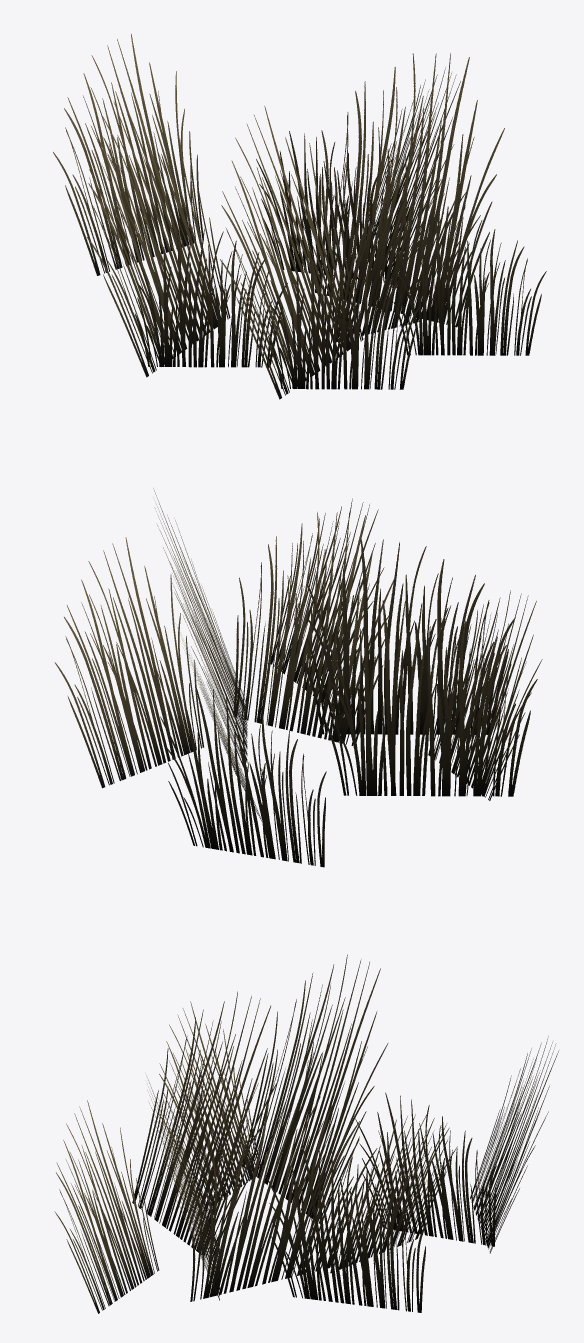
File: scenery-2.glb
3 views of the same model, one above another, from view 1: azimuth 30°, elevation 25°; view 2: azimuth 150°, elevation 25°; view 3: azimuth 270°, elevation 25° (orthographic). The views are drawn at different scales.
Size of the model in its own units: 5.74 by 2.71 by 6.09.
1 material, 1 textured.
